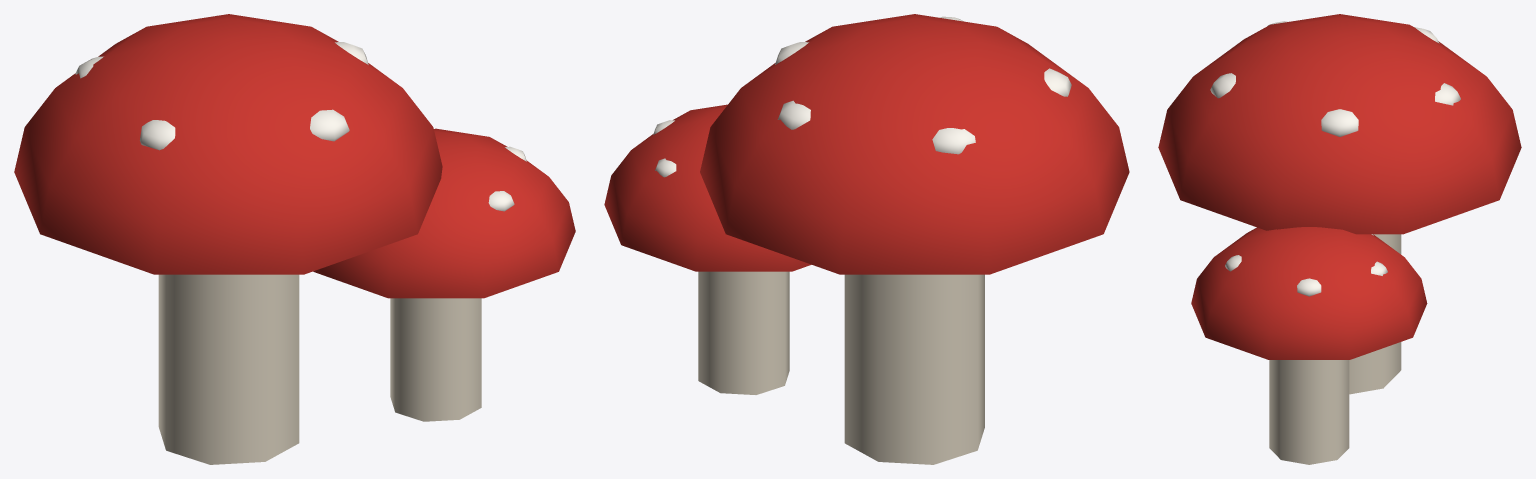
File: hongo.glb
3 renders of one model, left to right at view 1: azimuth 30°, elevation 25°; view 2: azimuth 150°, elevation 25°; view 3: azimuth 270°, elevation 25°, orthographic. The views are drawn at different scales.
Visible parts, largest first — view 1: hongo; view 2: hongo; view 3: hongo.
Boxes of the visible parts, x1,y1,x2,y2 form: hongo: (14,14,575,464); hongo: (604,14,1129,464); hongo: (1158,14,1521,464).
Size of the model in its own units: 0.3133 by 0.24 by 0.2364.
